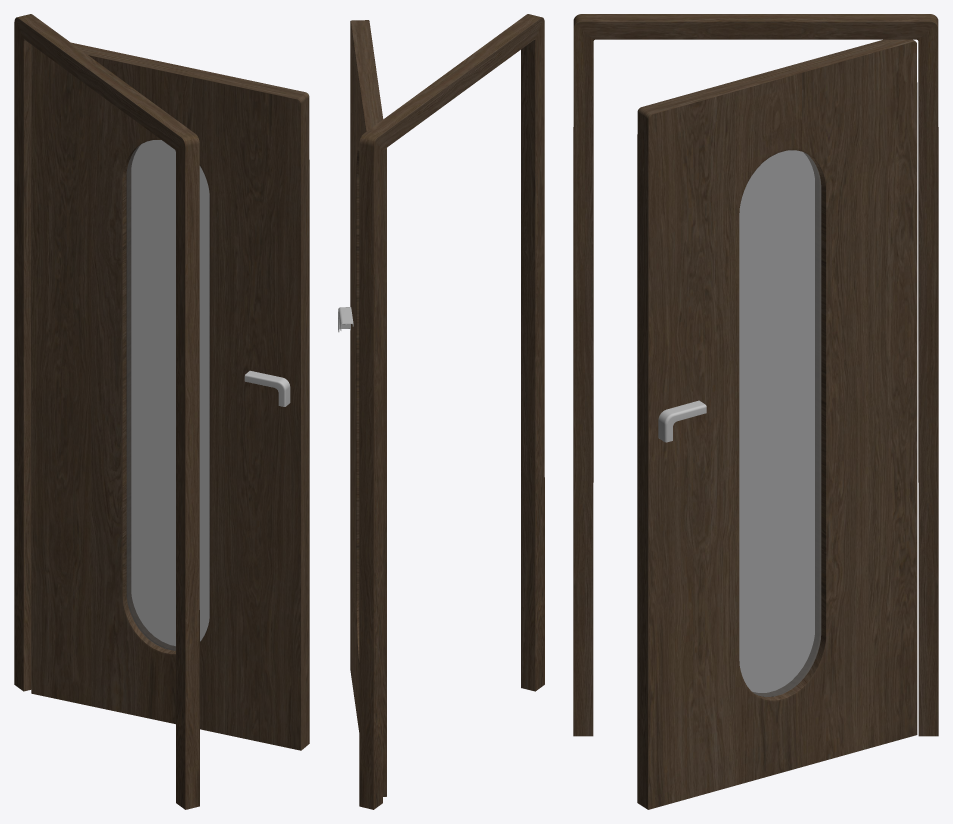
Rendered from DoorSmall. Open1.glb.
3 views of the same model, side by side, from view 1: azimuth 30°, elevation 25°; view 2: azimuth 150°, elevation 25°; view 3: azimuth 270°, elevation 25° (orthographic). The views are drawn at different scales.
Visible parts, largest first — view 1: Door, Box, Window, Handle1; view 2: Box, Door; view 3: Door, Window, Box, Handle1.
Boxes of the visible parts, left/top/right/bottom form: Door: left=31, top=42, right=309, bottom=750; Box: left=14, top=14, right=199, bottom=809; Window: left=126, top=140, right=209, bottom=650; Handle1: left=244, top=370, right=290, bottom=406; Box: left=359, top=14, right=544, bottom=809; Door: left=350, top=20, right=386, bottom=796; Door: left=637, top=39, right=917, bottom=809; Window: left=739, top=150, right=821, bottom=696; Box: left=573, top=14, right=938, bottom=736; Handle1: left=658, top=400, right=706, bottom=442.
Bounding box in the file's own units: 0.4982 × 1.96 × 0.906.
3 materials, 3 textured.
